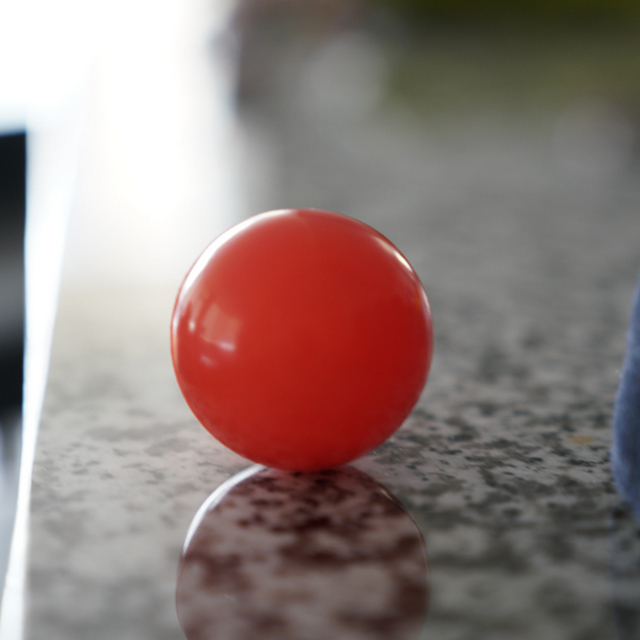Ball: (169, 208, 433, 475)
